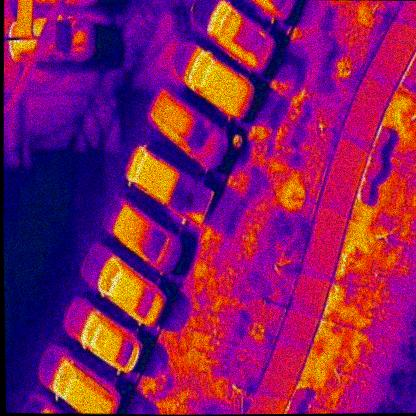Normal: (15, 0, 35, 35)
